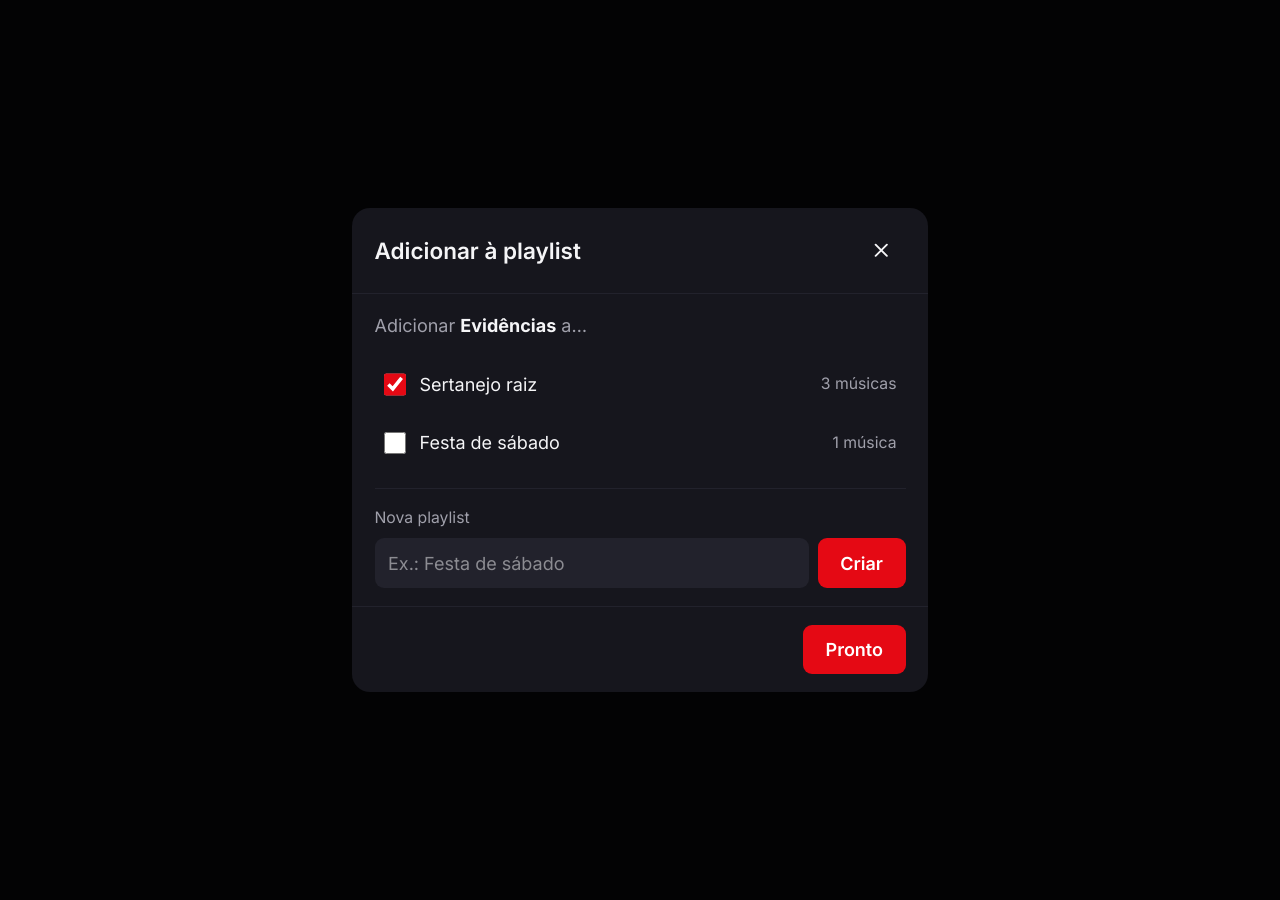
PlaylistPicker › adds the song when a playlist is checked, right away, and says so
This screenshot has width=1280, height=900.
What coordinates should you click on to do the following:
click the checkbox labelled "Festa de sábado 1 música"
I would click on:
 (395, 443)
Its box is [384,432,406,454].
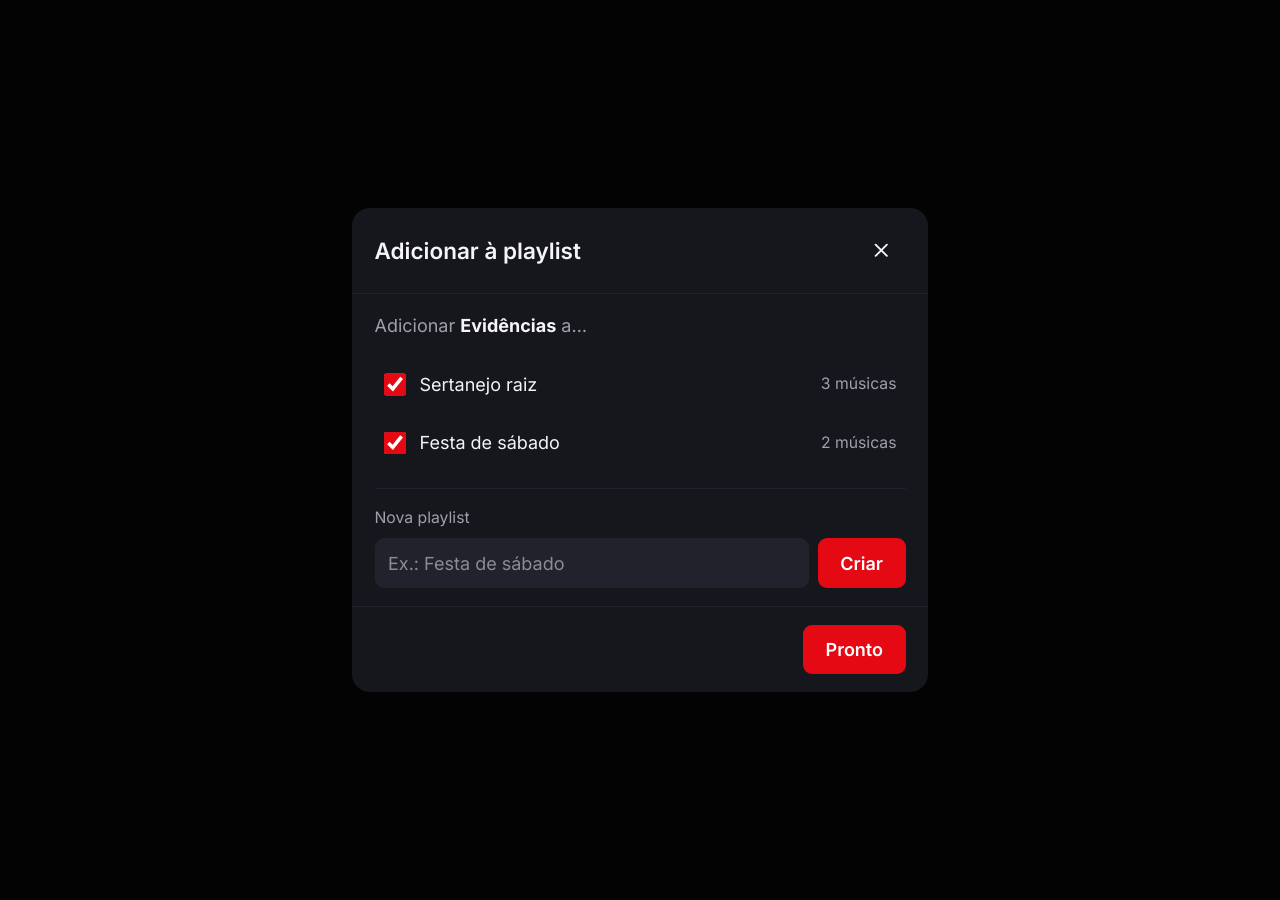
Check: the checkbox labelled "Festa de sábado 2 músicas" is checked, box [384,432,406,454]
Check: the text "2 músicas" is shown, box [821,432,896,454]
